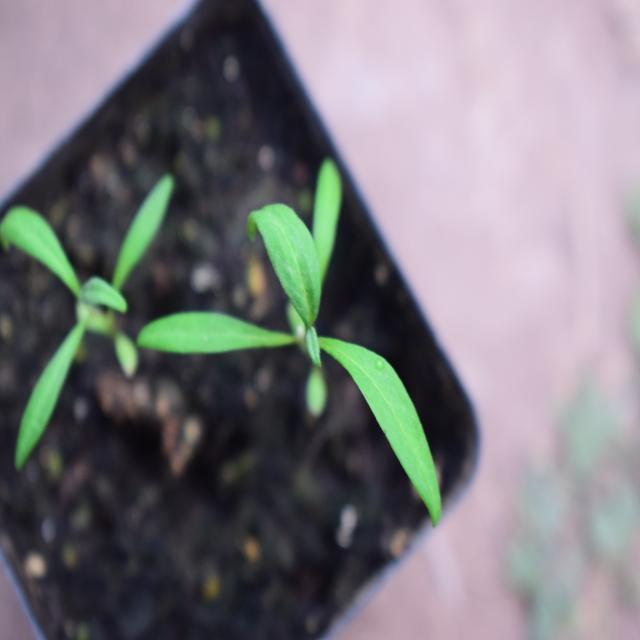white_smart_weed: (156, 161, 472, 531)
